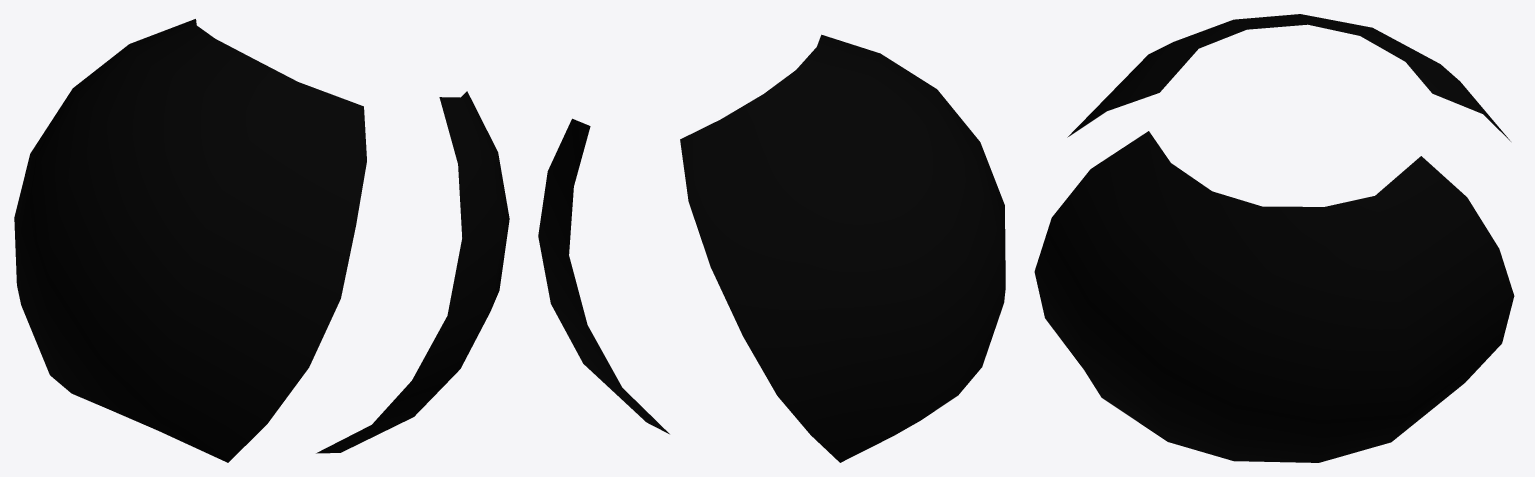
The model's file is bubble_solid_mountain3.glb.
3 views of the same model, side by side, from view 1: azimuth 30°, elevation 25°; view 2: azimuth 150°, elevation 25°; view 3: azimuth 270°, elevation 25° (orthographic). The views are drawn at different scales.
Visible parts, largest first — view 1: bubble_solid_texture.png__; view 2: bubble_solid_texture.png__; view 3: bubble_solid_texture.png__.
Boxes of the visible parts, x1=… form: bubble_solid_texture.png__: x1=14, y1=19, x2=509, y2=462; bubble_solid_texture.png__: x1=538, y1=34, x2=1005, y2=462; bubble_solid_texture.png__: x1=1034, y1=14, x2=1514, y2=462.
Size of the model in its own units: 7.78 by 6.95 by 7.78.
1 material, 1 textured.
